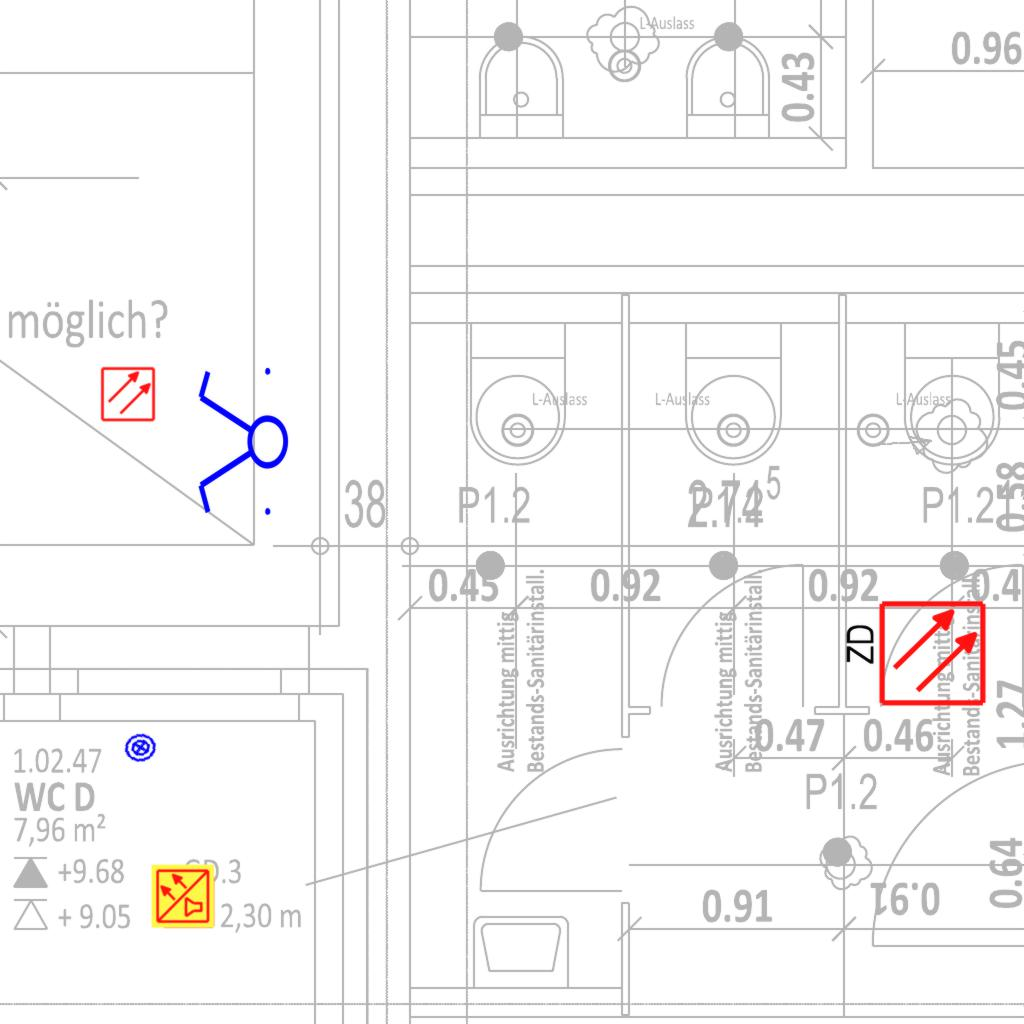OKW_Multisensormelder_(Kombination_optischer_Rauch-Kahlenmonoxid_Waerme-Melder): (150, 863, 216, 929)
RMO_Rauchmelder_optischer: (100, 366, 156, 422)
Serienschalter: (194, 359, 290, 527)
Taster_beleuchtet: (121, 728, 160, 767)
ZD_Melder_in_Zwischendecke_mit_Revisionsoeffnung_mind_40_x_40_cm: (839, 598, 988, 712)
